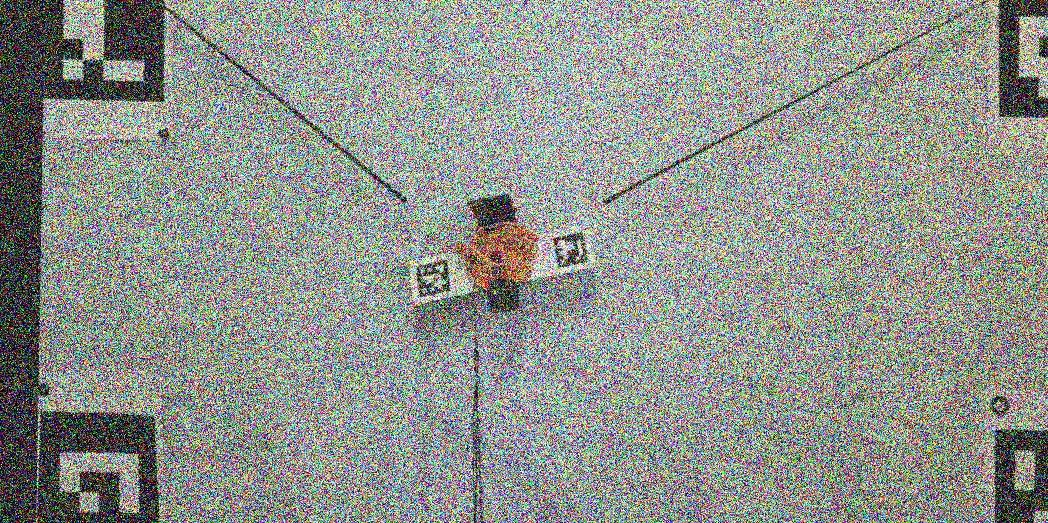robot: (457, 195, 539, 312)
